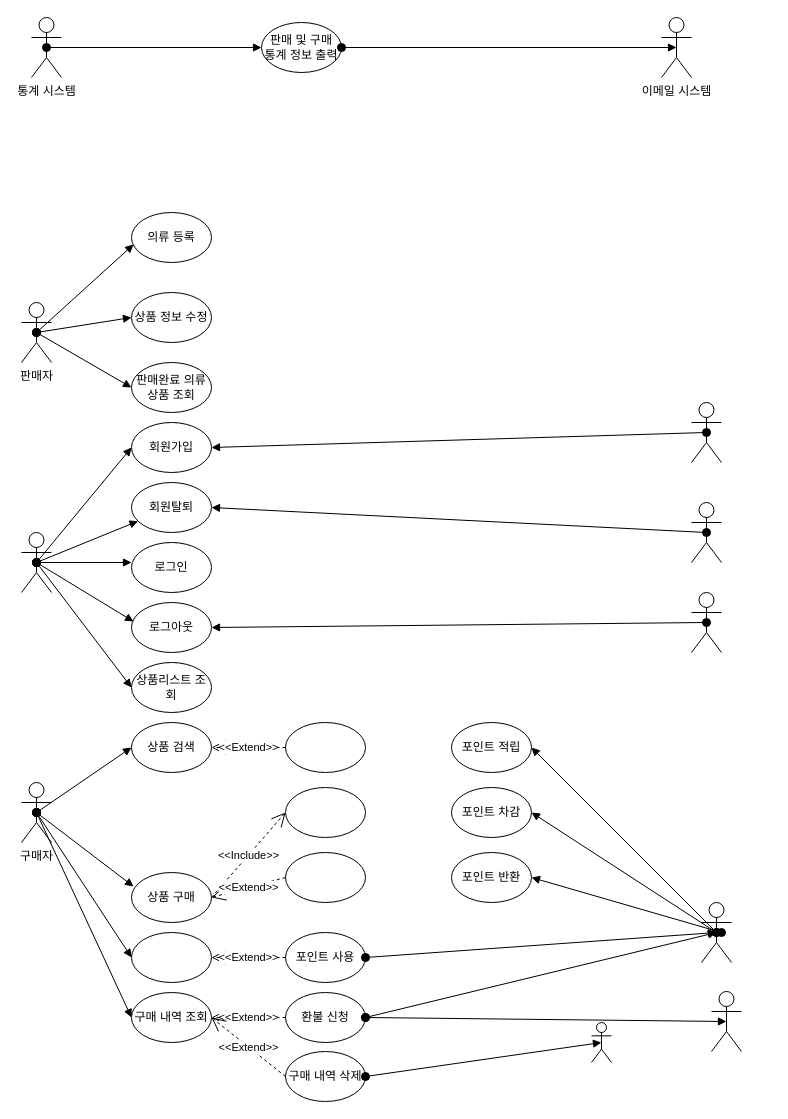
Image size: 788x1119. Some labels were removed from this diagram. Here are the shapes that lost their labels. From the top down, the box of each, then its label:
(690, 402, 722, 462): 사용권한 획득 event
(690, 502, 722, 562): 사용권한 소멸 event
(20, 532, 52, 592): 회원
(690, 592, 722, 652): 프로그램 자동 종료 event
(284, 722, 366, 772): 평균 구매 만족도 정렬
(284, 786, 366, 838): 상품 상세 정보 출력
(284, 852, 366, 902): 추가 상품 구매
(700, 902, 732, 962): 포인트 관리 시스템
(130, 932, 212, 982): 상품 결제
(710, 990, 742, 1052): 택배사 물건 수거 요청 event
(590, 1022, 612, 1062): 6개월 뒤 거래내역 자동 삭제 event
